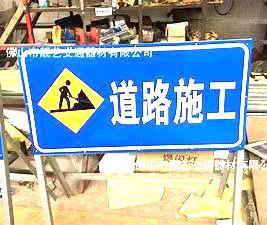sign: (22, 49, 249, 148)
